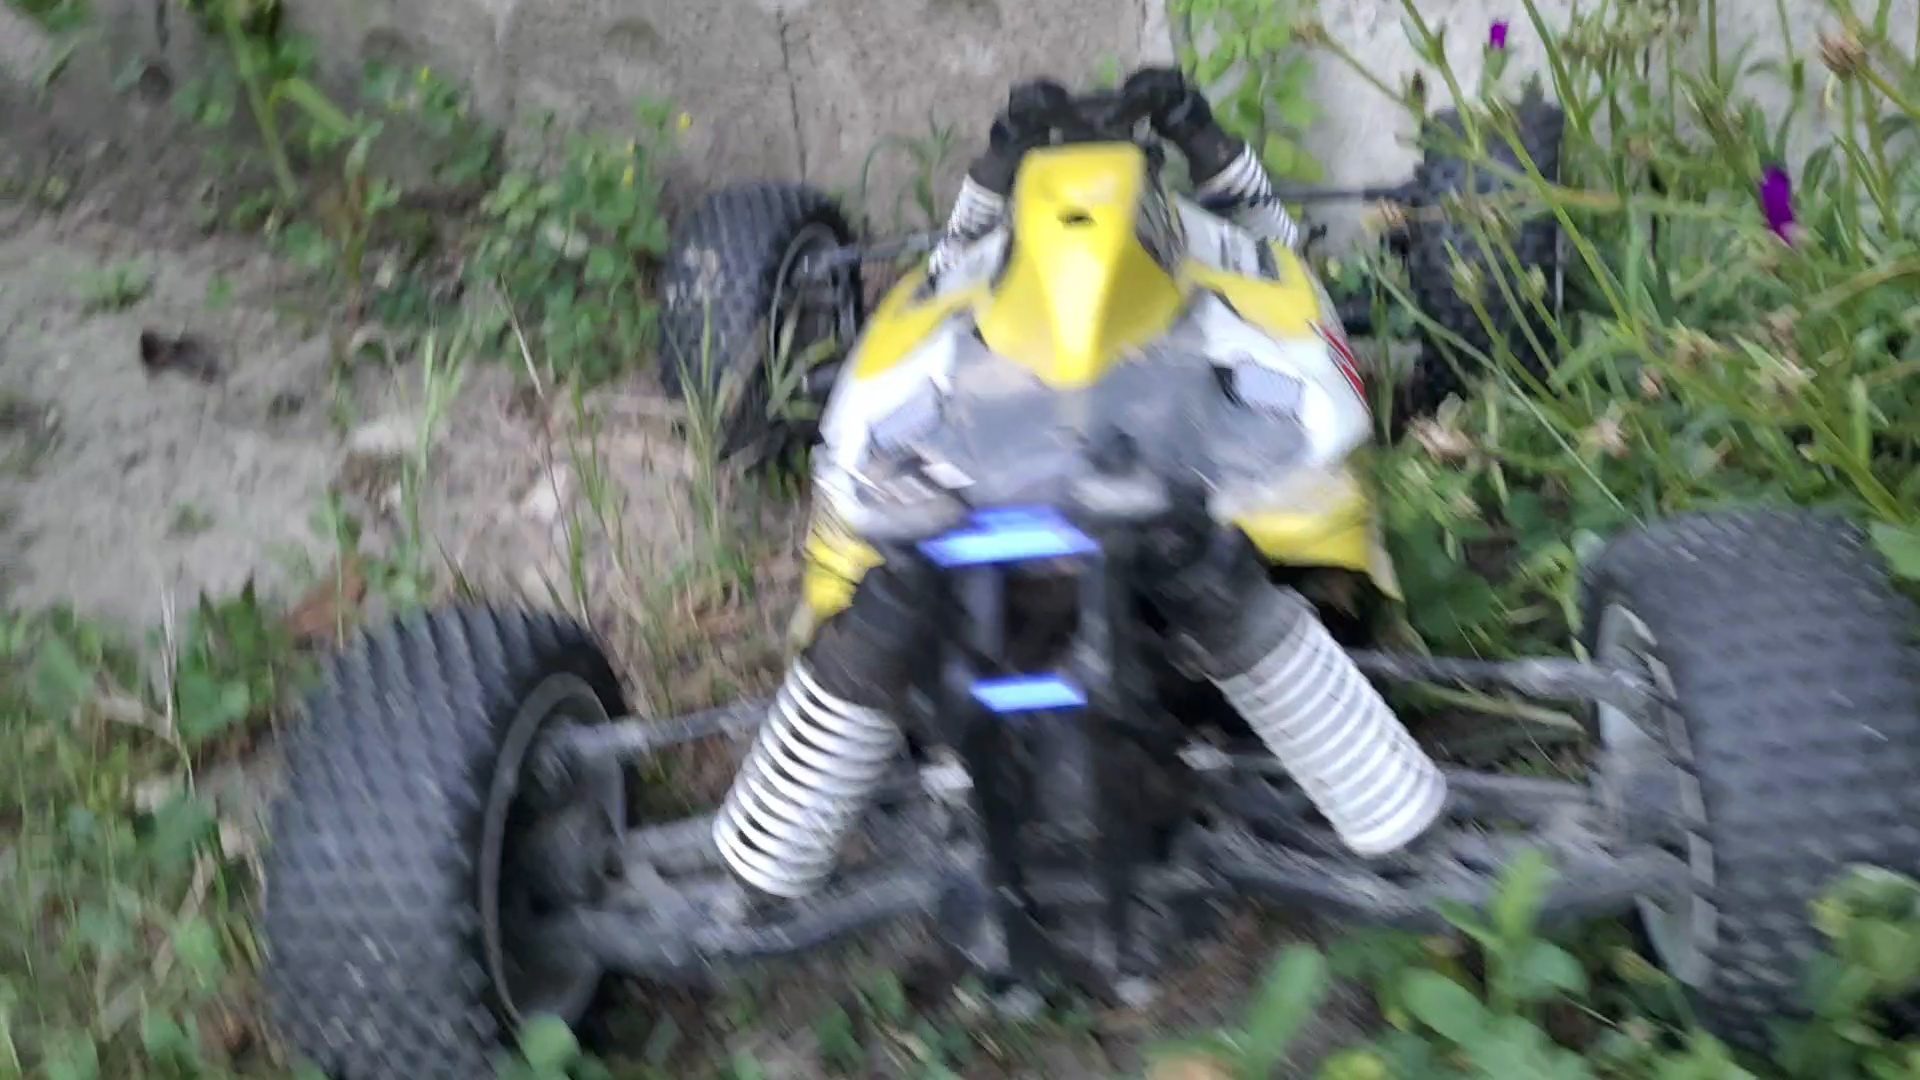buggy: (247, 71, 1920, 1069)
